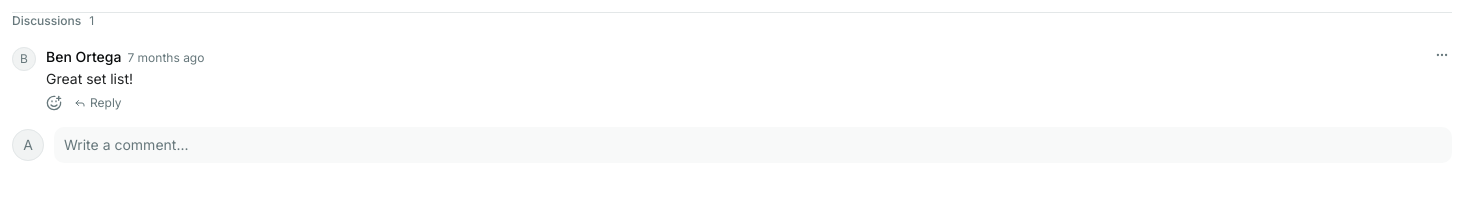
Test case: LineupDiscussion › cancels editing a comment without saving
Expected: the text "Great set list!" is shown, [46,70,133,87]
Click the button named "Comment actions" at x=1442, y=55, box [1432,45,1452,65]
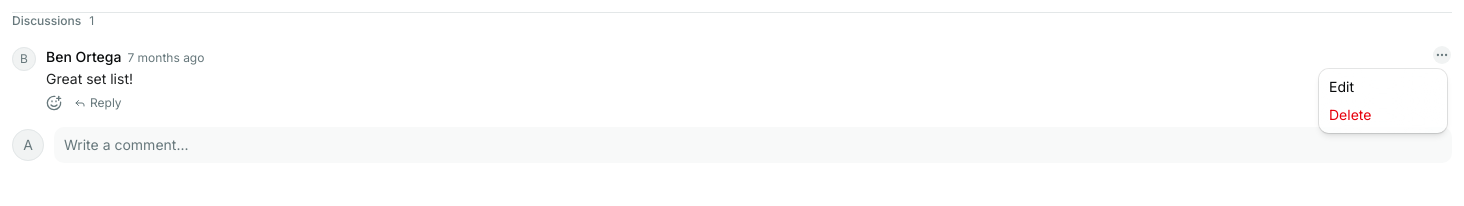
Click the menu item "Edit" at x=1342, y=86, box [1329,78,1354,95]
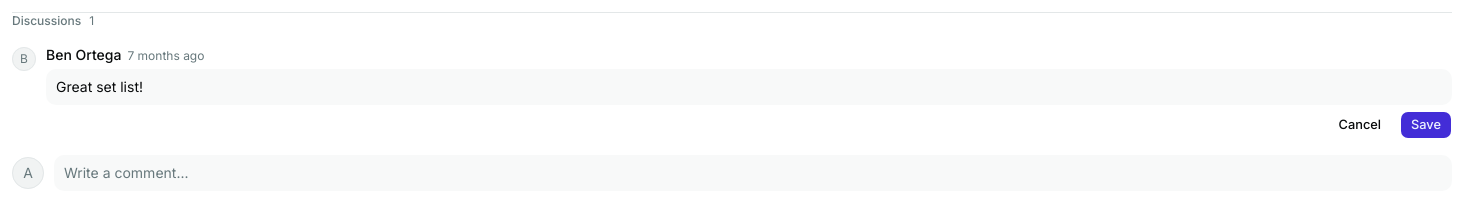
Replace the text in the text box showing "Great set list!" with "Something else" at x=749, y=87, box [46,69,1452,105]
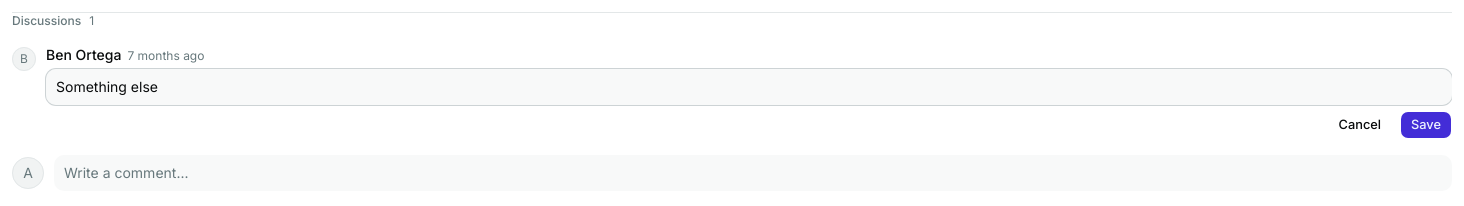
Click the button "Cancel" at x=1360, y=125, box [1328,111,1392,139]
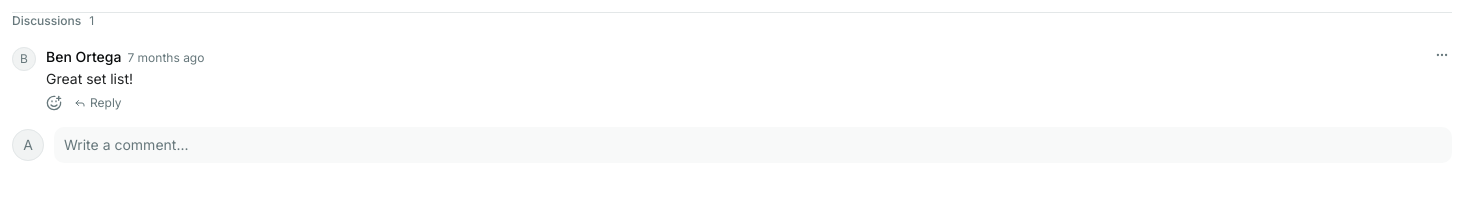
Expected: the text "Great set list!" is shown, [46,70,133,87]
